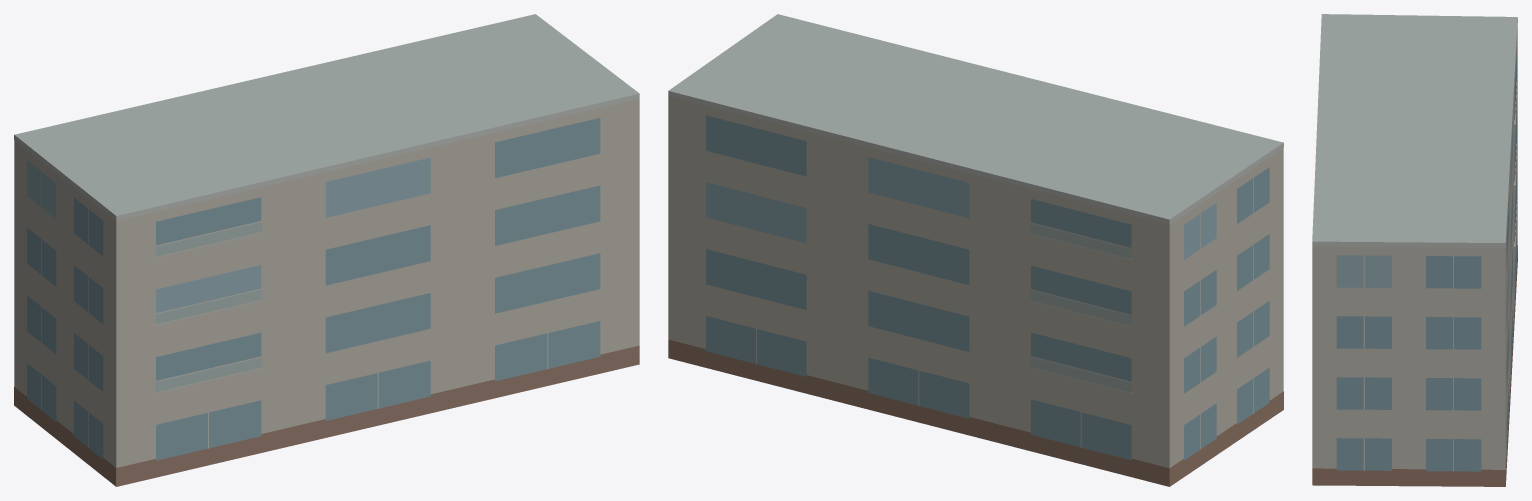
File: survey-upis-32494328.glb
3 views of the same model, side by side, from view 1: azimuth 30°, elevation 25°; view 2: azimuth 150°, elevation 25°; view 3: azimuth 270°, elevation 25° (orthographic). The views are drawn at different scales.
Visible parts, largest first — view 1: survey-upis-32494328.tmp; view 2: survey-upis-32494328.tmp; view 3: survey-upis-32494328.tmp.
Boxes of the visible parts, box(x1,y1,x2,y2) form: survey-upis-32494328.tmp: box(14, 14, 639, 486); survey-upis-32494328.tmp: box(668, 14, 1283, 486); survey-upis-32494328.tmp: box(1312, 14, 1517, 486).
Bounding box in the file's own units: 25.22 × 12.51 × 9.57.
